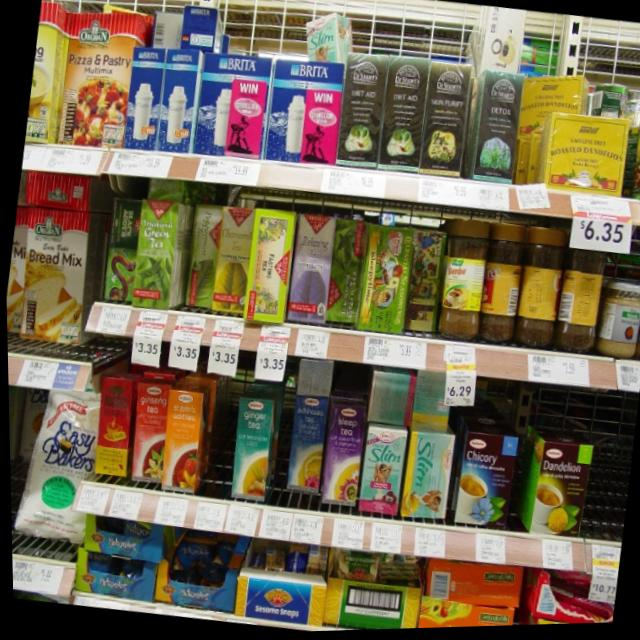q118: (523, 432, 595, 544)
q247: (119, 192, 194, 315)
